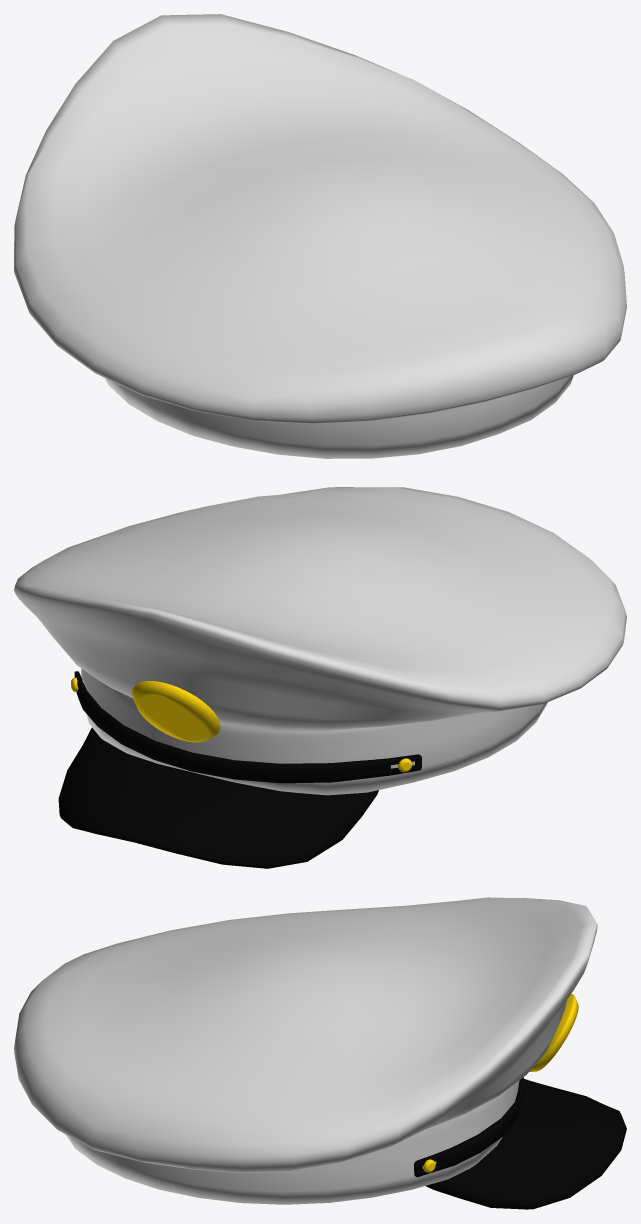
Rendered from captainHat.glb.
3 views of the same model, one above another, from view 1: azimuth 30°, elevation 25°; view 2: azimuth 150°, elevation 25°; view 3: azimuth 270°, elevation 25° (orthographic). The views are drawn at different scales.
Visible parts, largest first — view 1: HatObject; view 2: HatObject, GoldObject; view 3: HatObject, GoldObject.
Boxes of the visible parts, bbox=[...] form: HatObject: bbox=[14, 14, 626, 458]; HatObject: bbox=[14, 487, 626, 868]; GoldObject: bbox=[71, 677, 412, 772]; HatObject: bbox=[14, 897, 626, 1209]; GoldObject: bbox=[422, 994, 578, 1172].
Bounding box in the file's own units: 2.79 × 1.26 × 3.03.
